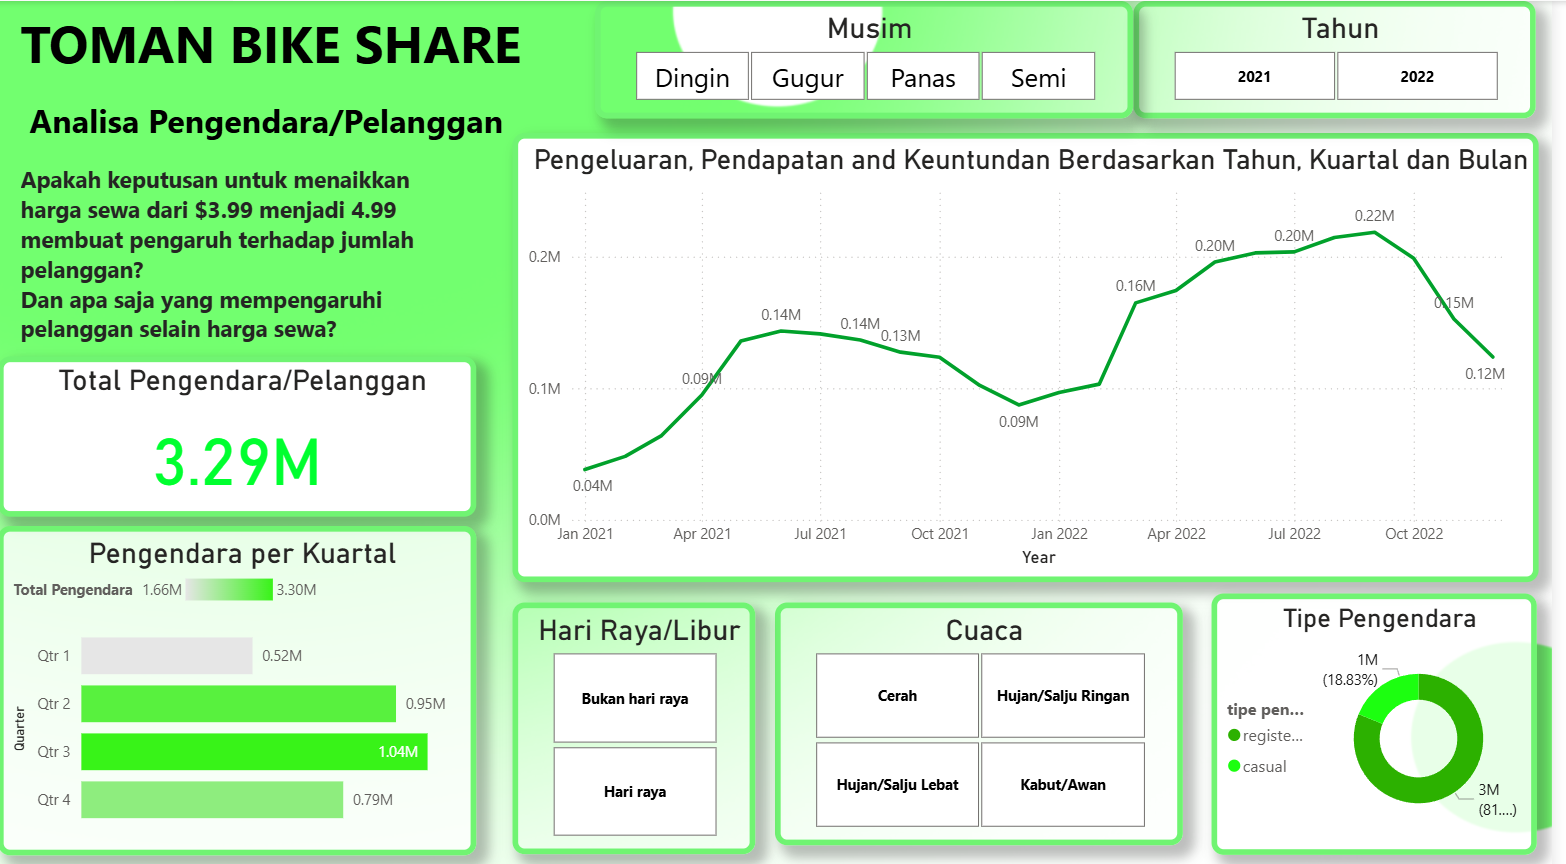

Layout of this report page (visuals, bound fields, positions):
{"tool":"powerbi","page":{"name":"Pengendara","canvas":[1280,720],"ordinal":1},"visuals":[{"type":"lineChart","title":"Pengeluaran, Pendapatan and Keuntundan Berdasarkan Tahun, Kuartal dan Bulan","fields":{"Category":["Query1.tanggal.Variation.Date Hierarchy.Year","Query1.tanggal.Variation.Date Hierarchy.Quarter","Query1.tanggal.Variation.Date Hierarchy.Month"],"Y":["Sum(Query1.pengendara)"]},"box":[423.3,108.3,845,370],"z":0},{"type":"slicer","title":"Tahun","fields":{"Values":["Query1.tahun"]},"box":[935.8,0,331.6,96.9],"z":1000},{"type":"card","title":"Total Pengendara/Pelanggan","fields":{"Values":["Sum(Query1.pengendara)"]},"box":[0,293.1,393.8,131.7],"z":2000},{"type":"barChart","title":"Pengendara per Kuartal","fields":{"Category":["Query1.tanggal.Variation.Date Hierarchy.Quarter"],"Y":["Sum(Query1.pengendara)"]},"box":[0,432.6,393.8,271.2],"z":3000},{"type":"donutChart","title":"Tipe Pengendara","fields":{"Category":["Query1.tipe_pengendara"],"Y":["Sum(Query1.pengendara)"]},"box":[999.4,487.6,268,215],"z":4000},{"type":"textbox","box":[13.6,0,434.6,128.7],"z":5000},{"type":"slicer","title":"Musim","fields":{"Values":["Query1.musim"]},"box":[492.1,0,443.7,96.9],"z":6000},{"type":"slicer","title":"Cuaca","fields":{"Values":["Query1.situasi_cuaca"]},"box":[640.5,495.1,336.2,199.9],"z":7000},{"type":"slicer","title":"Hari Raya/Libur","fields":{"Values":["Query1.holiday"]},"box":[424,495.1,199.9,207.4],"z":8000},{"type":"textbox","box":[13.6,128.7,380.1,165],"z":8001}]}

Visuals, with their boxes in screenshot pixels (x1, y1, x2, y2), scaled from the page's 1280x720 canvas onto the 1566x864 screenshot:
"Pengeluaran, Pendapatan and Keuntundan Berdasarkan Tahun, Kuartal dan Bulan" lineChart: region(518, 130, 1552, 574)
"Tahun" slicer: region(1145, 0, 1551, 116)
"Total Pengendara/Pelanggan" card: region(0, 352, 482, 510)
"Pengendara per Kuartal" barChart: region(0, 519, 482, 845)
"Tipe Pengendara" donutChart: region(1223, 585, 1551, 843)
textbox: region(17, 0, 548, 154)
"Musim" slicer: region(602, 0, 1145, 116)
"Cuaca" slicer: region(784, 594, 1195, 834)
"Hari Raya/Libur" slicer: region(519, 594, 763, 843)
textbox: region(17, 154, 482, 352)
